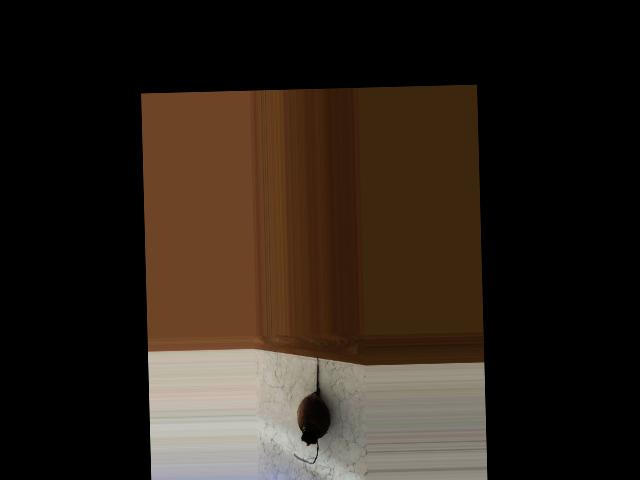beet: (291, 355, 331, 463)
